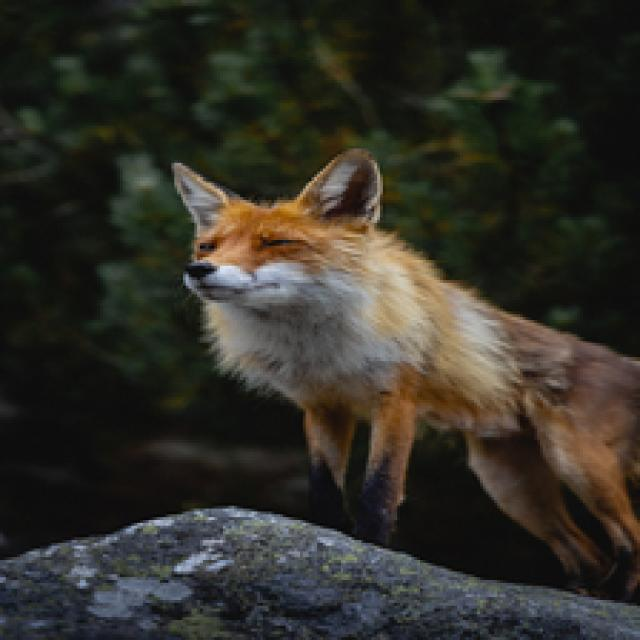fox: (149, 147, 640, 640)
